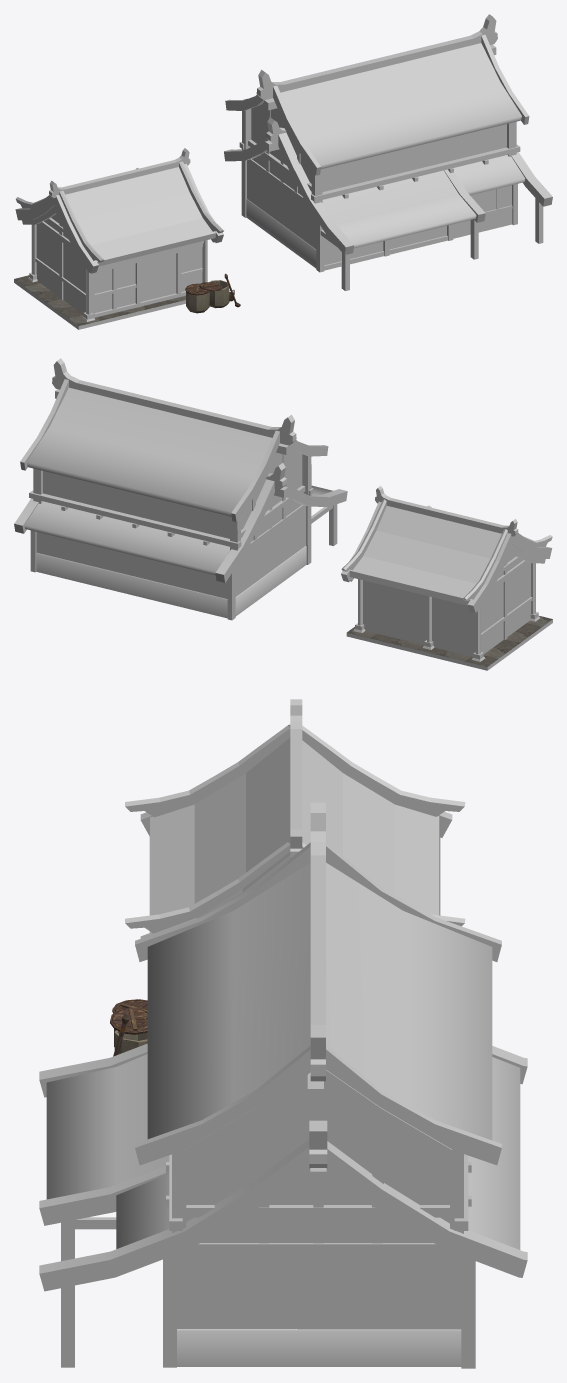
Rendered from s7_3d_minju.FBX.
3 renders of one model, top to bottom at view 1: azimuth 30°, elevation 25°; view 2: azimuth 150°, elevation 25°; view 3: azimuth 270°, elevation 25°, orthographic. The views are drawn at different scales.
Visible parts, largest first — view 1: mingju2, minju1; view 2: mingju2, minju1; view 3: mingju2, minju1.
Part boxes in pixels (box(x1,y1,x2,y2)): mingju2: box(224, 14, 552, 290); minju1: box(14, 148, 240, 329); mingju2: box(14, 358, 347, 620); minju1: box(341, 486, 552, 670); mingju2: box(39, 802, 527, 1368); minju1: box(110, 699, 465, 1056).
Bounding box in the file's own units: 2212 × 828 × 1028.
